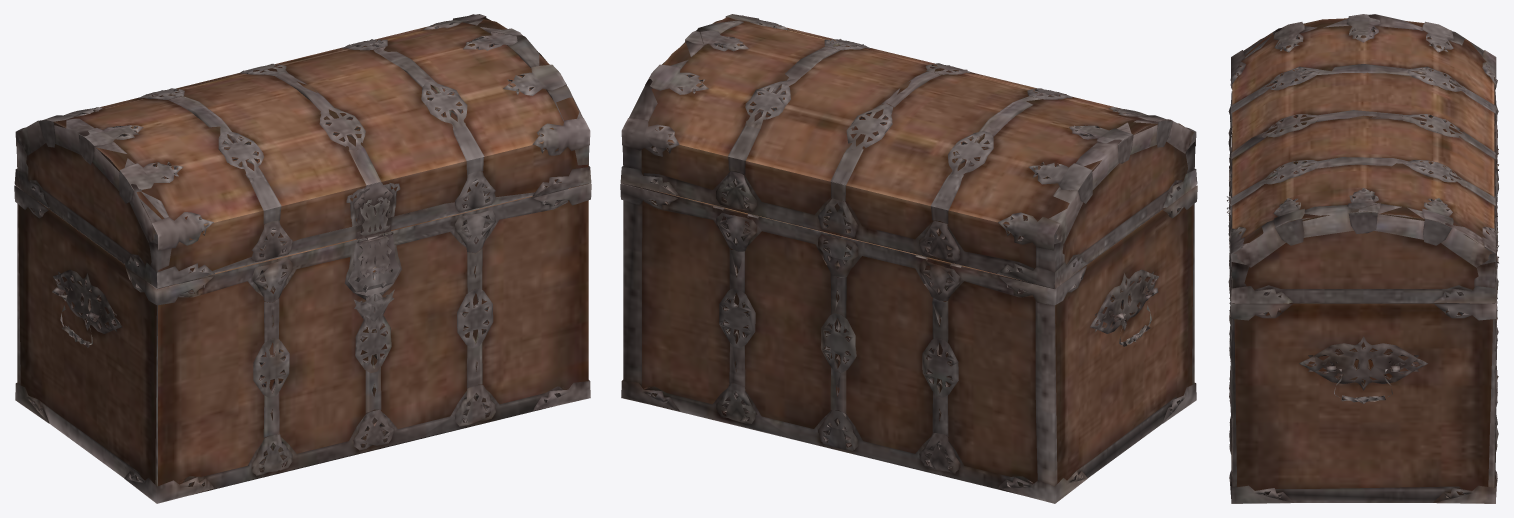
Rendered from treasure_chest.glb.
The picture shows the model from 3 angles, left to right: view 1: azimuth 30°, elevation 25°; view 2: azimuth 150°, elevation 25°; view 3: azimuth 270°, elevation 25°; orthographic projection. The views are drawn at different scales.
Visible parts, largest first — view 1: treasure_chest_bottom; view 2: treasure_chest_bottom; view 3: treasure_chest_bottom.
Boxes of the visible parts, <box> form: treasure_chest_bottom: <box>14,14,591,503</box>; treasure_chest_bottom: <box>620,14,1197,503</box>; treasure_chest_bottom: <box>1227,14,1498,503</box>.
Bounding box in the file's own units: 0.9607 × 0.6197 × 0.5226.
1 material, 1 textured.
